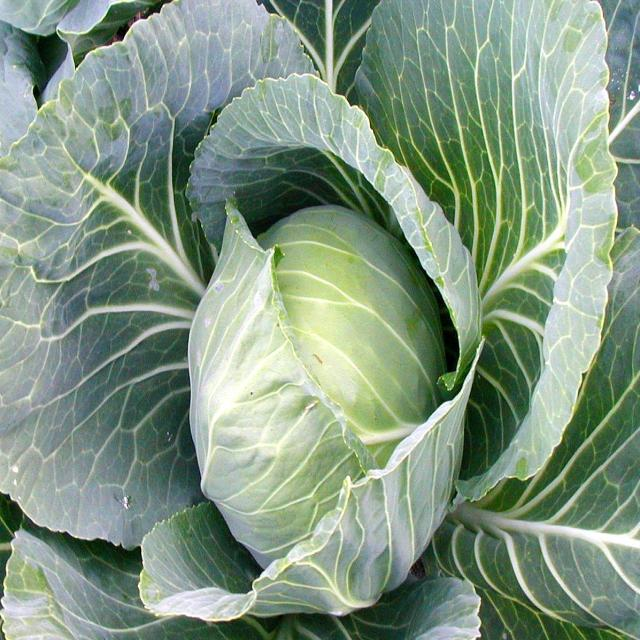cabbage: (111, 43, 524, 616)
